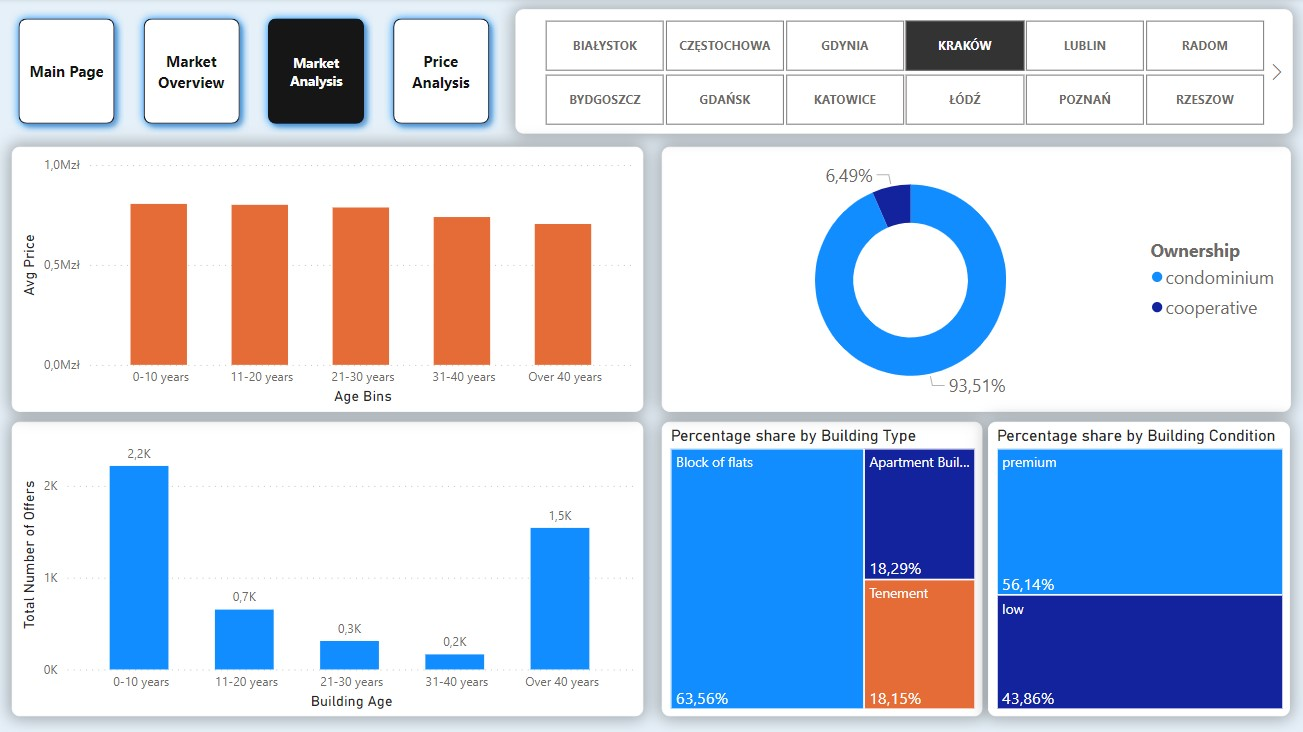

This screenshot's page, from the dashboard's own definition file:
{"tool":"powerbi","page":{"name":"Market Analysis","canvas":[1280,720],"ordinal":2},"visuals":[{"type":"columnChart","title":"Number of Offers by Building Age","fields":{"Category":["Apartments_data.Age Bins"],"Y":["_Measures.Nuber of offers"]},"box":[13.3,414.9,617.5,288.2],"z":0},{"type":"treemap","title":"Percentage share by Building Type","fields":{"Values":["_Measures.Nuber of offers"],"Group":["DIM_Building_types.building_type"]},"box":[648.8,414.9,313.6,288.2],"z":1000},{"type":"donutChart","title":"Distribution of Ownership","fields":{"Y":["_Measures.Nuber of offers"],"Category":["DIM_Ownership.ownership"]},"box":[648.8,145.9,615.1,259.3],"z":2000},{"type":"treemap","title":"Percentage share by Building Condition","fields":{"Values":["_Measures.Nuber of offers"],"Group":["FACT_Apartments_data.building_condition"]},"box":[968.4,414.9,295.5,288.2],"z":3000},{"type":"slicer","fields":{"Values":["DIM_City.city"]},"box":[506.5,10.9,759.8,121.8],"z":4000},{"type":"pageNavigator","box":[11.2,11.2,481.2,121.2],"z":5000},{"type":"columnChart","title":"Average Price by Building Age","fields":{"Category":["Apartments_data.Age Bins","FACT_Apartments_data.Age of Building"],"Y":["_Measures.Avg Price"]},"box":[13.3,145.9,617.5,259.3],"z":6000}]}

Visuals, with their boxes in screenshot pixels (x1, y1, x2, y2), scaled from the page's 1280x720 canvas onto the 1303x732 screenshot:
"Number of Offers by Building Age" columnChart: (14,422,642,715)
"Percentage share by Building Type" treemap: (660,422,980,715)
"Distribution of Ownership" donutChart: (660,148,1287,412)
"Percentage share by Building Condition" treemap: (986,422,1287,715)
slicer - DIM_City.city: (516,11,1289,135)
pageNavigator: (11,11,501,135)
"Average Price by Building Age" columnChart: (14,148,642,412)
